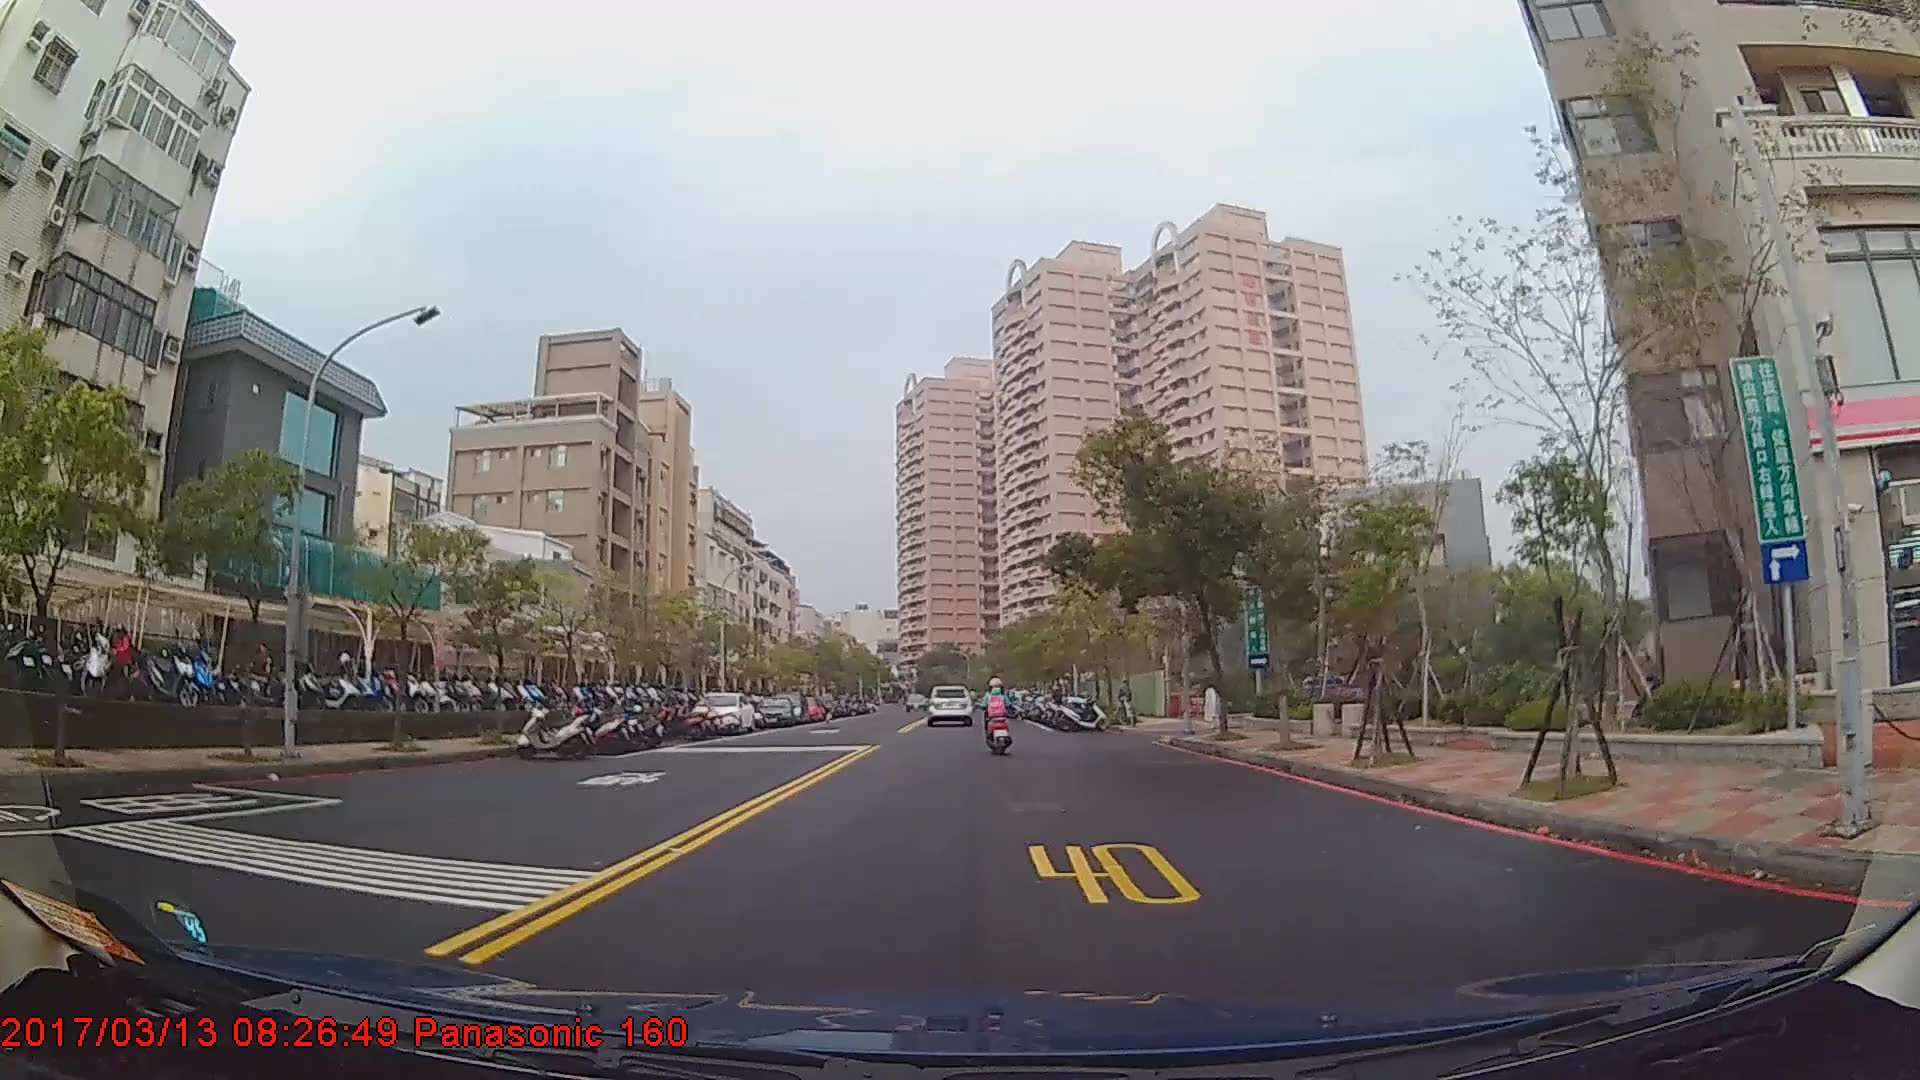pedestrian: (1117, 680, 1137, 725)
rider: (980, 679, 1013, 755)
vehicle: (695, 689, 756, 734), (923, 685, 974, 730), (750, 695, 795, 731)
